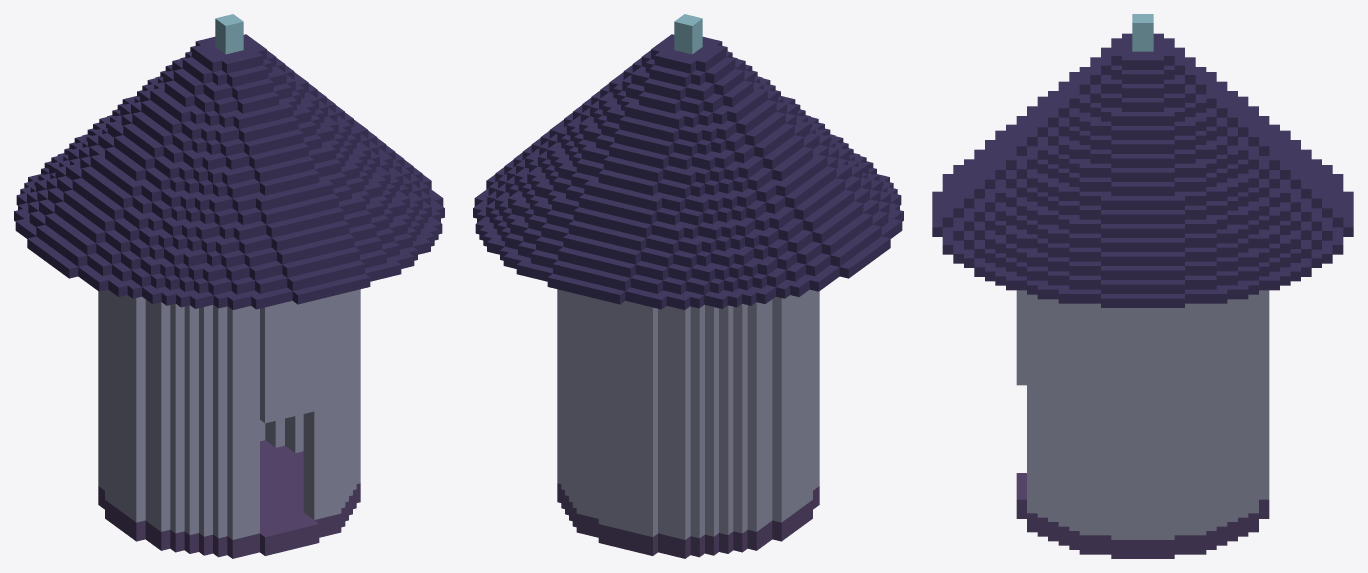
The model's file is house.glb.
3 views of the same model, side by side, from view 1: azimuth 30°, elevation 25°; view 2: azimuth 150°, elevation 25°; view 3: azimuth 270°, elevation 25° (orthographic).
Parts seen in each view (by area): view 1: Shell; view 2: Shell; view 3: Shell.
Part boxes in pixels (<box>): Shell: <box>14,14,444,558</box>; Shell: <box>473,14,903,558</box>; Shell: <box>932,14,1353,558</box>.
Size of the model in its own units: 5 by 6.38 by 5.
